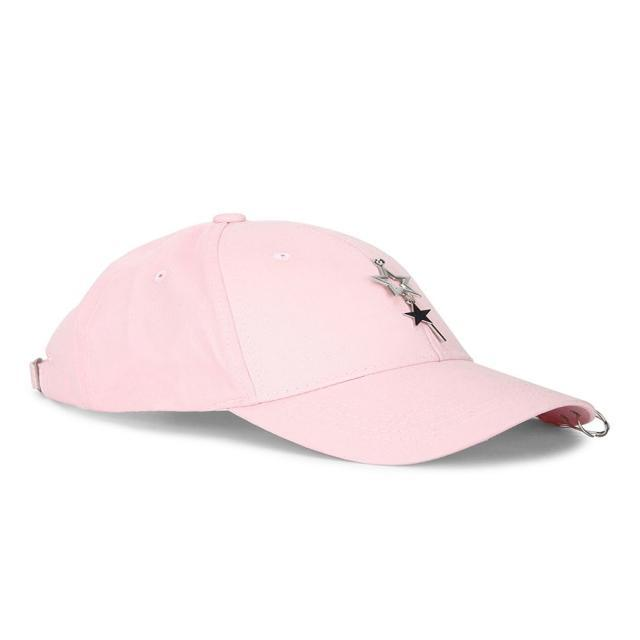cap: (19, 186, 640, 524)
